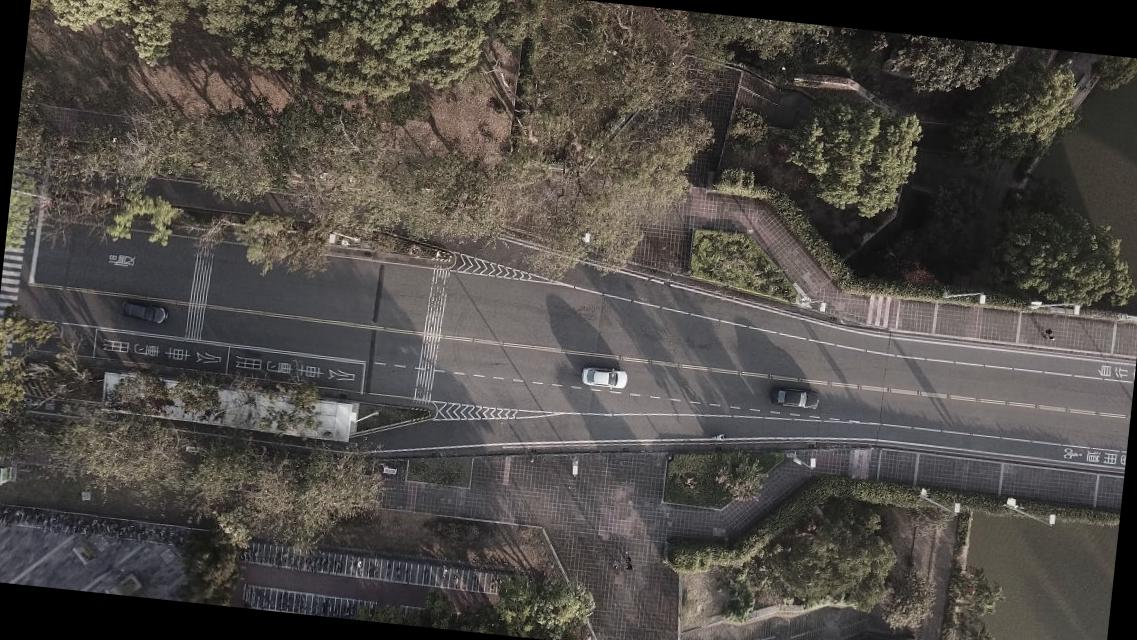vehicle: (769, 386, 821, 412), (580, 364, 628, 392), (118, 299, 168, 325)
